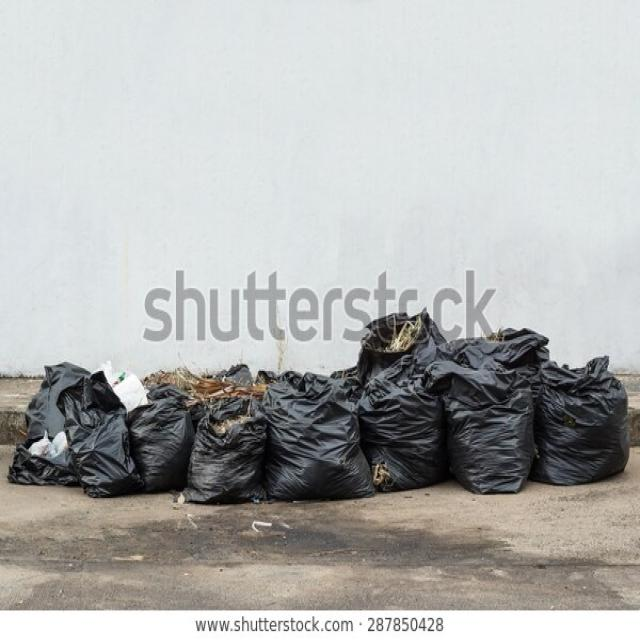heap: (268, 366, 361, 496), (456, 368, 538, 490), (367, 378, 446, 495), (545, 372, 628, 472), (194, 405, 270, 499), (75, 381, 129, 492), (140, 391, 195, 473)
